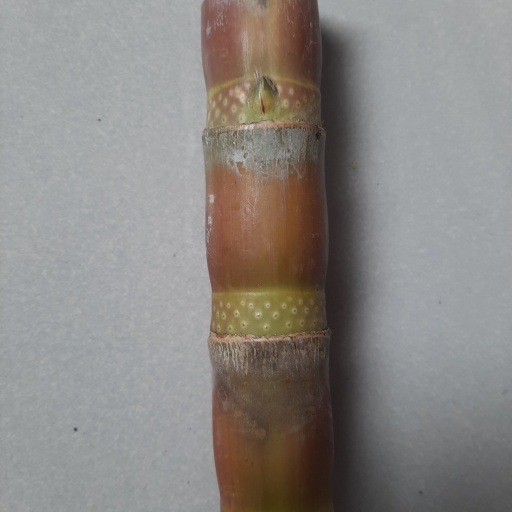Bud: (249, 75, 279, 117)
